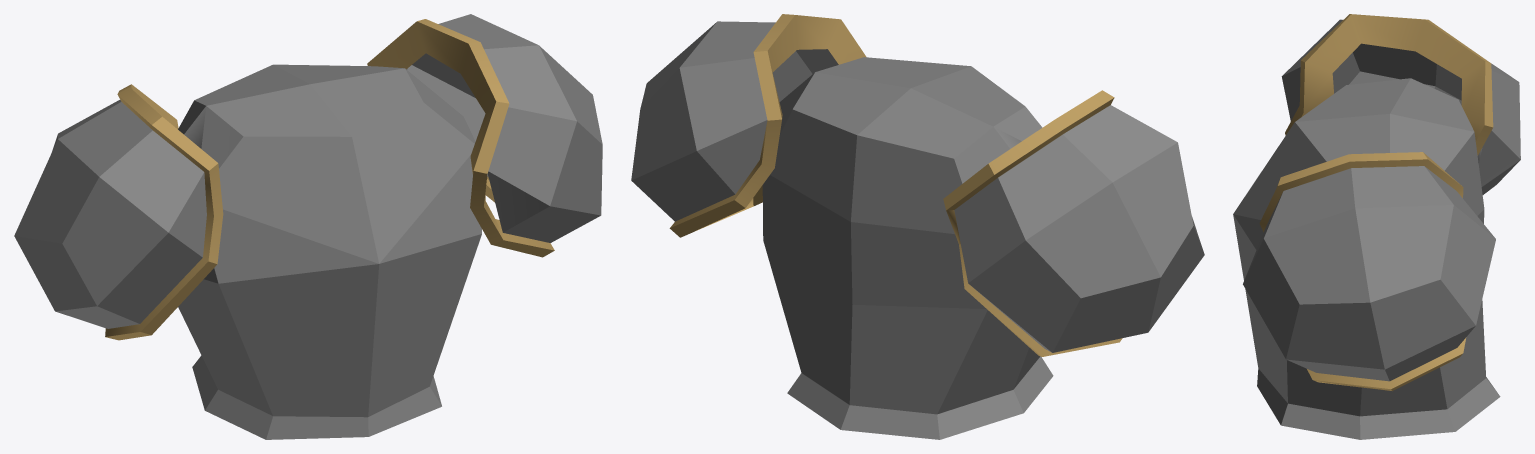
Rendered from armor.glb.
3 views of the same model, side by side, from view 1: azimuth 30°, elevation 25°; view 2: azimuth 150°, elevation 25°; view 3: azimuth 270°, elevation 25° (orthographic). The views are drawn at different scales.
Visible parts, largest first — view 1: Gilded Pauldron Left.001; view 2: Gilded Pauldron Left.001; view 3: Gilded Pauldron Left.001.
Boxes of the visible parts, box(x1,y1,x2,y2) form: Gilded Pauldron Left.001: box(14, 14, 602, 439); Gilded Pauldron Left.001: box(631, 14, 1204, 439); Gilded Pauldron Left.001: box(1233, 14, 1520, 439).
Bounding box in the file's own units: 0.1042 × 0.0616 × 0.0511.
1 material, 1 textured.
